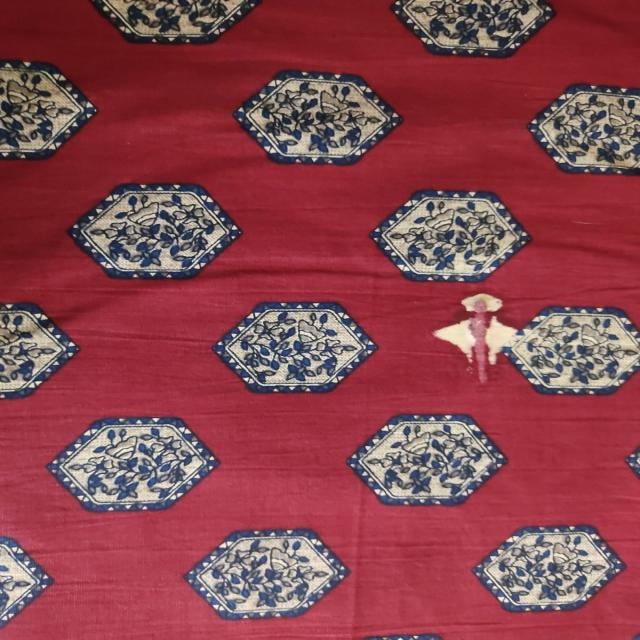stain: (439, 287, 520, 394)
